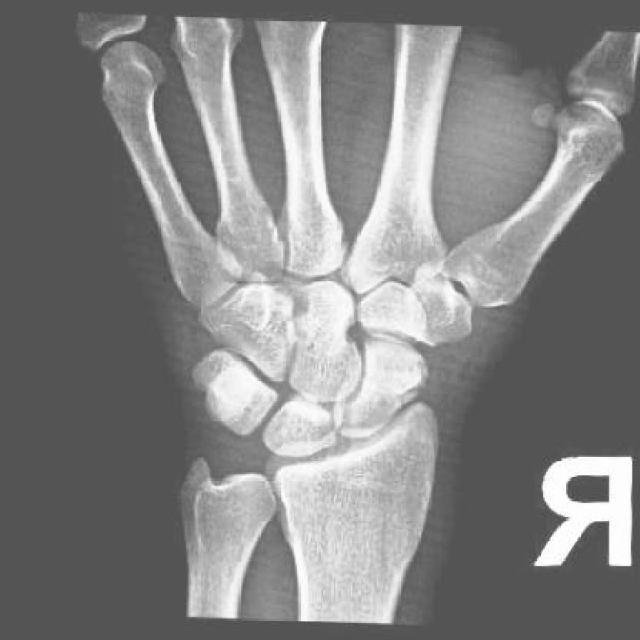Fracture: (357, 362, 430, 407)
